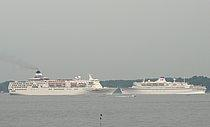Ship: (3, 67, 122, 99)
